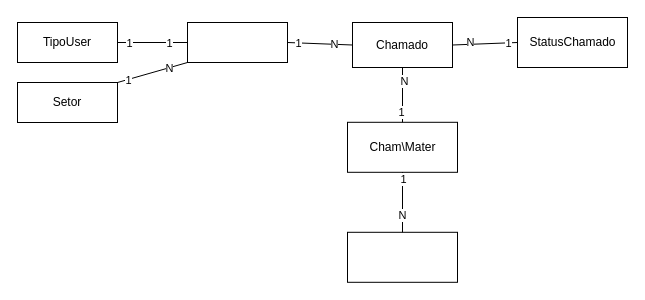
The diagram is 645 pixels wide and 300 high, and some of its shapes have lost their labels. The shapes that lost their labels are listed below. From the top down, each one's centre as x and y in pixels, then its label:
pixel 237 42: User
pixel 402 256: Almoxarifado
